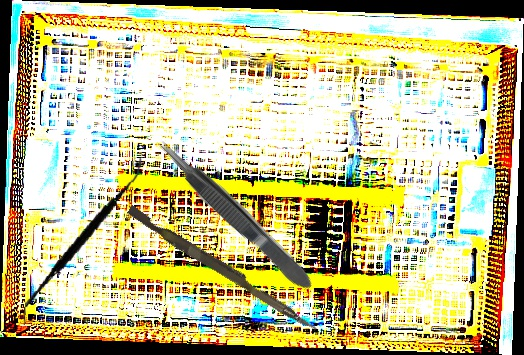Pusher: (123, 204, 323, 334)
Spatula Surgical: (22, 144, 144, 338)
Tissue Forceps: (150, 131, 317, 298)
